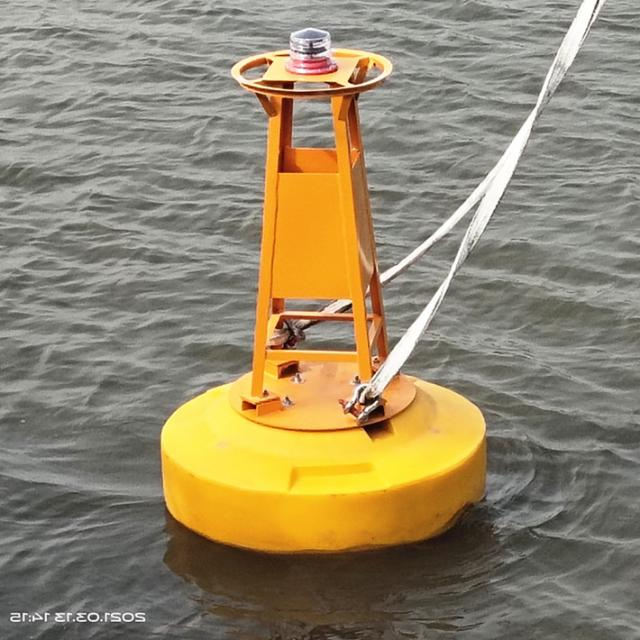buoy: (153, 25, 503, 547)
